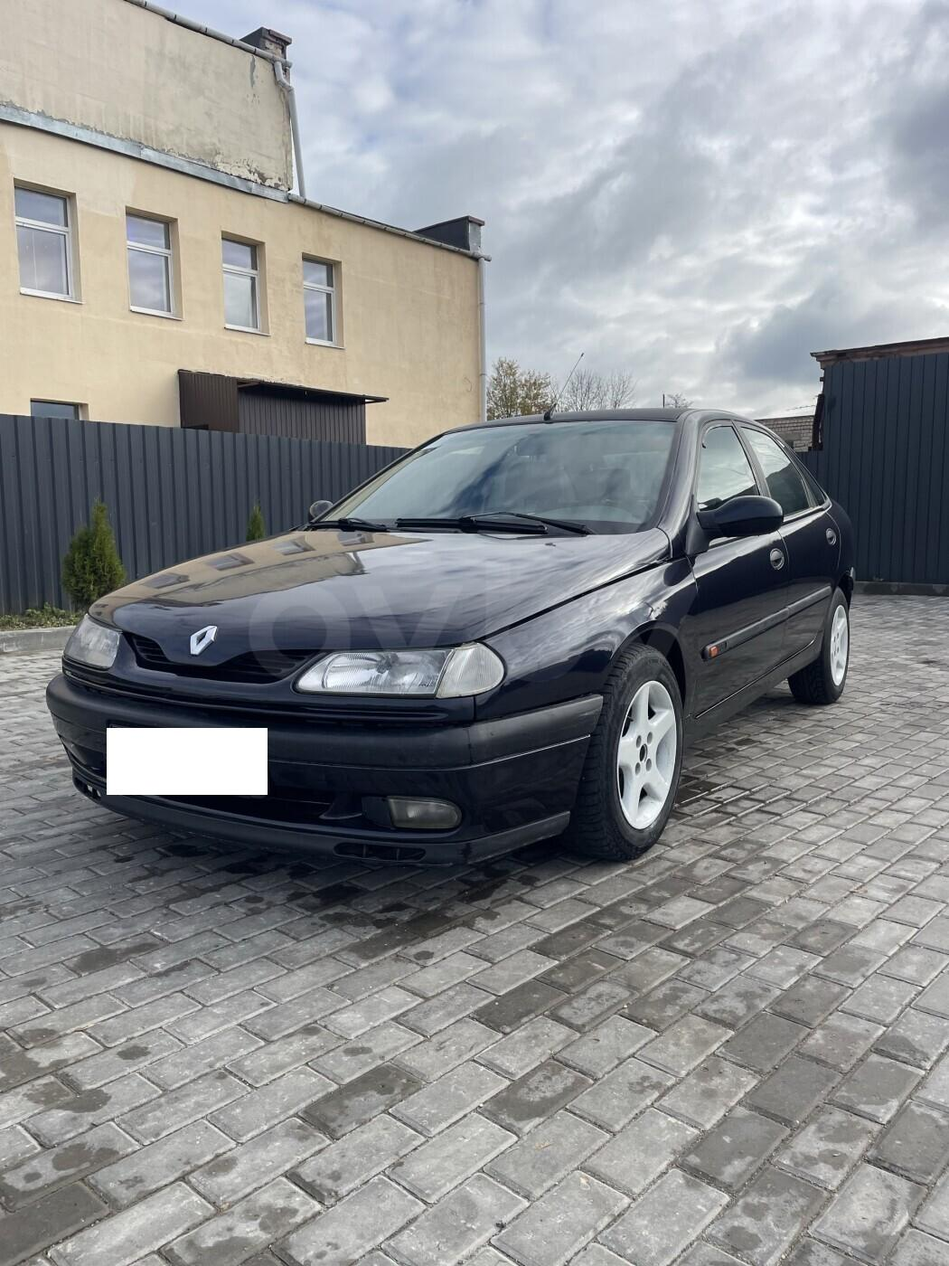Lahuna_1993-1999: (51, 407, 862, 895)
